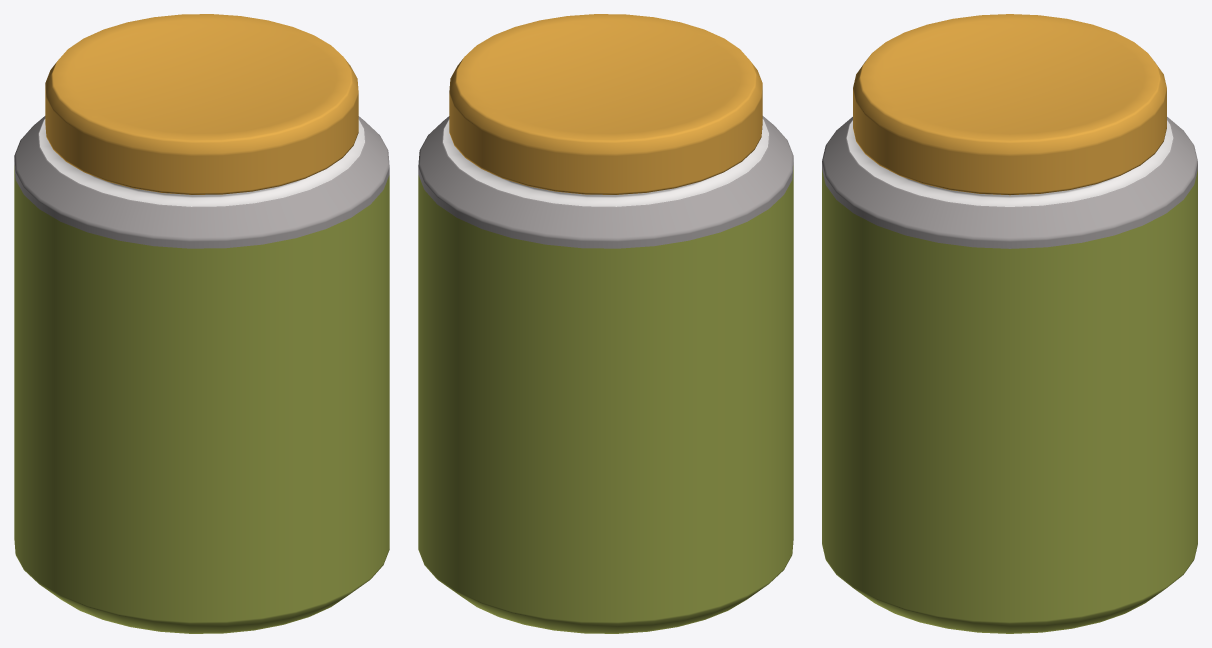
Rendered from selai matcha.fbx.
The picture shows the model from 3 angles, left to right: view 1: azimuth 30°, elevation 25°; view 2: azimuth 150°, elevation 25°; view 3: azimuth 270°, elevation 25°; orthographic projection.
Visible parts, largest first — view 1: Cylinder, Cylinder.001; view 2: Cylinder, Cylinder.001; view 3: Cylinder, Cylinder.001.
Part boxes in pixels (x1=…): Cylinder: x1=14, y1=116, x2=389, y2=633; Cylinder.001: x1=45, y1=14, x2=358, y2=194; Cylinder: x1=418, y1=116, x2=793, y2=633; Cylinder.001: x1=449, y1=14, x2=762, y2=194; Cylinder: x1=822, y1=117, x2=1197, y2=633; Cylinder.001: x1=853, y1=14, x2=1166, y2=195.
Bounding box in the file's own units: 83.38 × 120 × 83.38.
